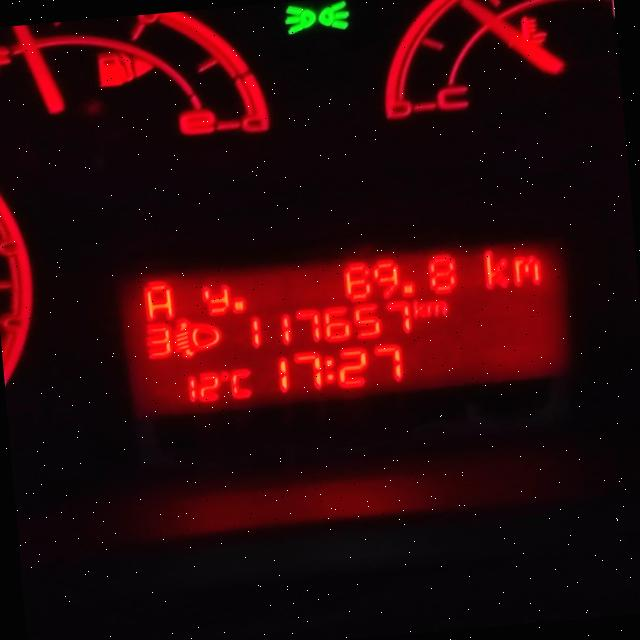odometer: (110, 231, 580, 424)
